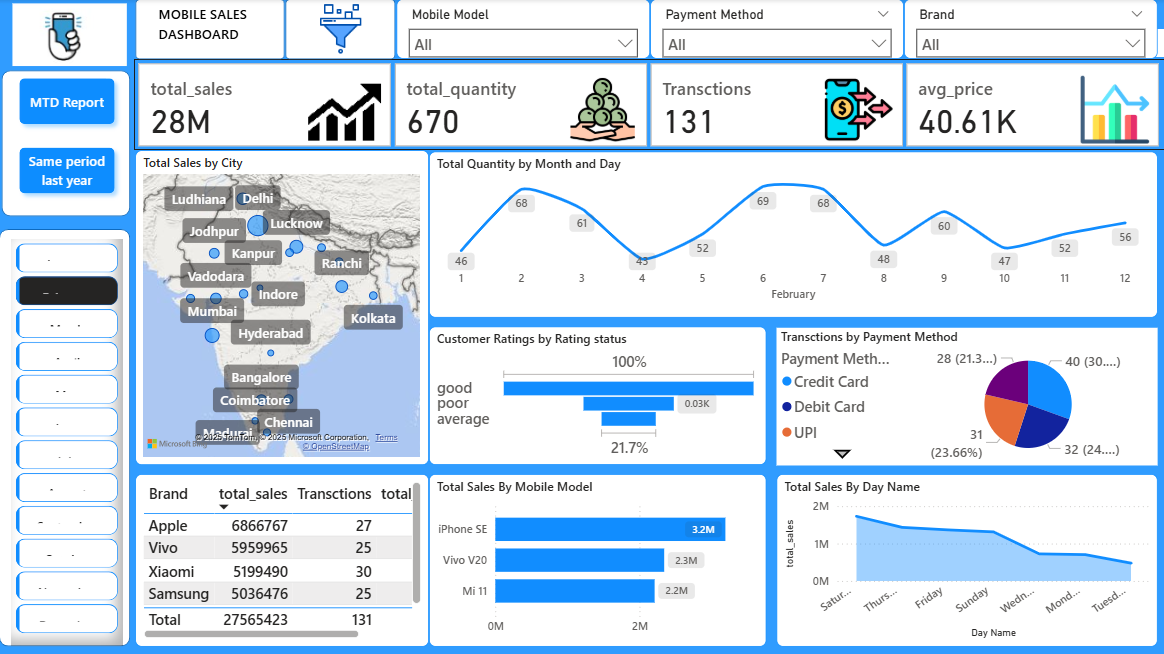

This screenshot's page, from the dashboard's own definition file:
{"tool":"powerbi","page":{"name":"Mobilesales dashboard","canvas":[1280,720],"ordinal":0},"visuals":[{"type":"image","box":[2.7,0,149.6,78.2],"z":0},{"type":"shape","box":[2.7,78.2,141.3,160.5],"z":1000},{"type":"shape","box":[0,252.5,144.1,458.3],"z":2000},{"type":"advancedSlicerVisual","fields":{"Values":["custom_calendar.Date.Variation.Date Hierarchy.Month"]},"box":[13.7,263.5,122.1,447.3],"z":3000},{"type":"cardVisual","fields":{"Data":["sales_table.total_sales","sales_table.total_quantity","sales_table.total_tran","sales_table.avg_price"]},"box":[148.8,65.5,1131,101.2],"z":4000},{"type":"slicer","fields":{"Values":["sales_table.Mobile Model"]},"box":[435.7,0,278.6,65.5],"z":5000},{"type":"slicer","fields":{"Values":["sales_table.Payment Method"]},"box":[714.3,0,278.6,65.5],"z":6000},{"type":"slicer","fields":{"Values":["sales_table.Brand"]},"box":[992.9,0,278.6,65.5],"z":7000},{"type":"shape","box":[313.7,0,120.9,66.2],"z":8000},{"type":"image","box":[313.7,0,120.9,66.2],"z":9000},{"type":"shape","box":[149.6,0,164,66.2],"z":10000},{"type":"textbox","box":[170.2,0,123.8,56],"z":11000},{"type":"map","title":"Total Sales by City","fields":{"Category":["sales_table.City"],"Size":["sales_table.total_sales"]},"box":[149.6,166,322.5,345.8],"z":12000},{"type":"lineChart","title":"Total Quantity by Month and Day","fields":{"Y":["sales_table.total_quantity"],"Category":["custom_calendar.Date.Variation.Date Hierarchy.Month","custom_calendar.Date.Variation.Date Hierarchy.Day"]},"box":[472,167.4,800,182.5],"z":13000},{"type":"funnel","title":"Customer Ratings by Rating status","fields":{"Y":["CountNonNull(sales_table.Customer Ratings)"],"Category":["sales_table.Rating status"]},"box":[472,359.5,370.5,152.3],"z":14000},{"type":"pieChart","fields":{"Category":["sales_table.Payment Method"],"Y":["sales_table.Transctions"]},"box":[853.5,360.9,418.5,150.9],"z":15000},{"type":"clusteredBarChart","title":"Total Sales By Mobile Model","fields":{"Category":["sales_table.Mobile Model"],"Y":["sales_table.total_sales"]},"box":[472,521.4,370.5,189.4],"z":16000},{"type":"areaChart","title":"Total Sales By Day Name","fields":{"Y":["sales_table.total_sales"],"Category":["custom_calendar.Day Name"]},"box":[853.5,521.4,418.5,189.4],"z":17000},{"type":"tableEx","fields":{"Values":["sales_table.Brand","sales_table.total_sales","sales_table.Transctions","sales_table.total_quantity"]},"box":[149.6,521.4,322.5,189.4],"z":18000},{"type":"pageNavigator","box":[13.7,78.2,122.1,145],"z":19000}]}

Visuals, with their boxes in screenshot pixels (x1, y1, x2, y2), scaled from the page's 1280x720 canvas onto the 1164x654 screenshot:
image: crop(2, 0, 138, 71)
shape: crop(2, 71, 131, 217)
shape: crop(0, 229, 131, 646)
advancedSlicerVisual - custom_calendar.Date.Variation.Date Hierarchy.Month: crop(12, 239, 123, 646)
cardVisual - sales_table.total_sales x sales_table.total_quantity: crop(135, 59, 1163, 151)
slicer - sales_table.Mobile Model: crop(396, 0, 650, 59)
slicer - sales_table.Payment Method: crop(650, 0, 903, 59)
slicer - sales_table.Brand: crop(903, 0, 1156, 59)
shape: crop(285, 0, 395, 60)
image: crop(285, 0, 395, 60)
shape: crop(136, 0, 285, 60)
textbox: crop(155, 0, 267, 51)
"Total Sales by City" map: crop(136, 151, 429, 465)
"Total Quantity by Month and Day" lineChart: crop(429, 152, 1157, 318)
"Customer Ratings by Rating status" funnel: crop(429, 327, 766, 465)
pieChart - sales_table.Payment Method x sales_table.Transctions: crop(776, 328, 1157, 465)
"Total Sales By Mobile Model" clusteredBarChart: crop(429, 474, 766, 646)
"Total Sales By Day Name" areaChart: crop(776, 474, 1157, 646)
tableEx - sales_table.Brand x sales_table.total_sales: crop(136, 474, 429, 646)
pageNavigator: crop(12, 71, 123, 203)
